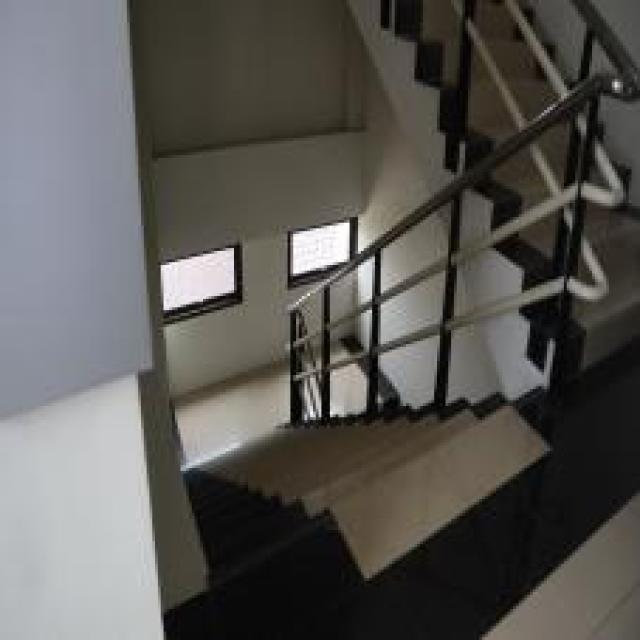downstair: (183, 409, 564, 637)
